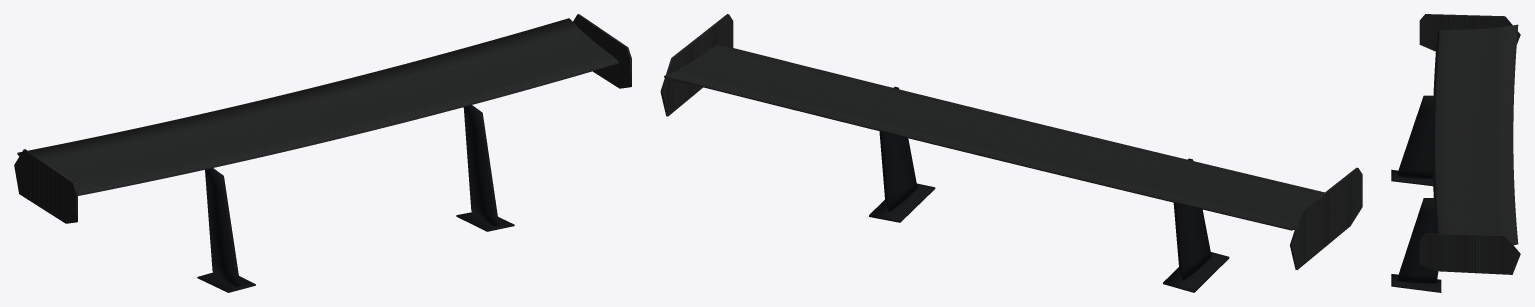
Rendered from RA44_gt_wing.glb.
The picture shows the model from 3 angles, left to right: view 1: azimuth 30°, elevation 25°; view 2: azimuth 150°, elevation 25°; view 3: azimuth 270°, elevation 25°; orthographic projection. The views are drawn at different scales.
Parts seen in each view (by area): view 1: MOD_NA_RA44_airfoil, MOD_NA_RA44_endplate_R, MOD_NA_RA44_upright_L, MOD_NA_RA44_upright_R, MOD_NA_RA44_endplate_L, MOD_NA_RA44_foot_R, MOD_NA_RA44_foot_L; view 2: MOD_NA_RA44_airfoil, MOD_NA_RA44_endplate_R, MOD_NA_RA44_endplate_L, MOD_NA_RA44_upright_L, MOD_NA_RA44_upright_R, MOD_NA_RA44_foot_R, MOD_NA_RA44_foot_L; view 3: MOD_NA_RA44_airfoil, MOD_NA_RA44_endplate_L, MOD_NA_RA44_upright_R, MOD_NA_RA44_upright_L, MOD_NA_RA44_endplate_R, MOD_NA_RA44_foot_L, MOD_NA_RA44_foot_R.
Boxes of the visible parts, bbox=[...] form: MOD_NA_RA44_airfoil: bbox=[17, 18, 618, 195]; MOD_NA_RA44_endplate_R: bbox=[14, 149, 77, 223]; MOD_NA_RA44_upright_L: bbox=[463, 105, 498, 225]; MOD_NA_RA44_upright_R: bbox=[205, 168, 240, 286]; MOD_NA_RA44_endplate_L: bbox=[573, 14, 631, 88]; MOD_NA_RA44_foot_R: bbox=[197, 272, 255, 292]; MOD_NA_RA44_foot_L: bbox=[456, 212, 514, 231]; MOD_NA_RA44_airfoil: bbox=[664, 44, 1324, 230]; MOD_NA_RA44_endplate_R: bbox=[1290, 167, 1362, 270]; MOD_NA_RA44_endplate_L: bbox=[660, 14, 733, 116]; MOD_NA_RA44_upright_L: bbox=[879, 86, 917, 211]; MOD_NA_RA44_upright_R: bbox=[1173, 158, 1211, 280]; MOD_NA_RA44_foot_R: bbox=[1163, 252, 1229, 292]; MOD_NA_RA44_foot_L: bbox=[869, 183, 935, 222]; MOD_NA_RA44_airfoil: bbox=[1432, 24, 1518, 245]; MOD_NA_RA44_endplate_L: bbox=[1419, 233, 1520, 274]; MOD_NA_RA44_upright_R: bbox=[1397, 95, 1433, 178]; MOD_NA_RA44_upright_L: bbox=[1397, 198, 1438, 283]; MOD_NA_RA44_endplate_R: bbox=[1419, 14, 1520, 51]; MOD_NA_RA44_foot_L: bbox=[1391, 274, 1441, 292]; MOD_NA_RA44_foot_R: bbox=[1391, 169, 1433, 186].
Size of the model in its own units: 1.29 by 0.3067 by 0.32.
2 materials, 1 textured.
